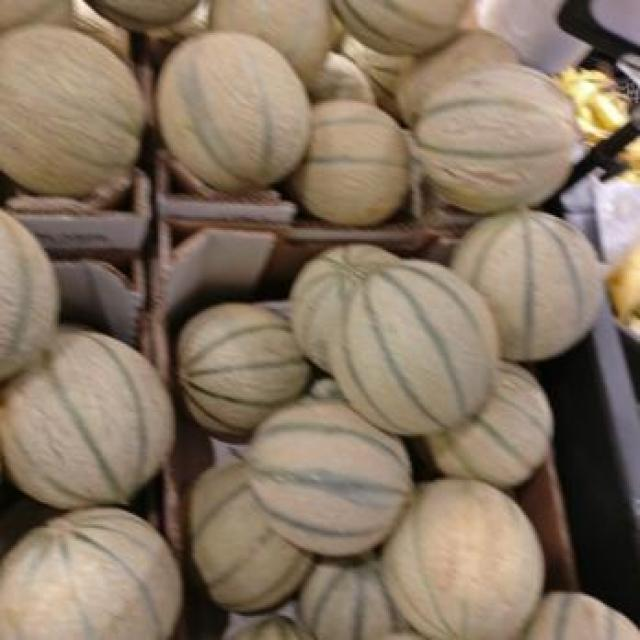Cantaloupe: (3, 316, 175, 513), (331, 263, 506, 432), (239, 390, 416, 557), (377, 475, 548, 638), (445, 202, 605, 366), (2, 506, 200, 638), (0, 25, 151, 198), (410, 68, 581, 210), (156, 36, 313, 188), (165, 309, 312, 438)
